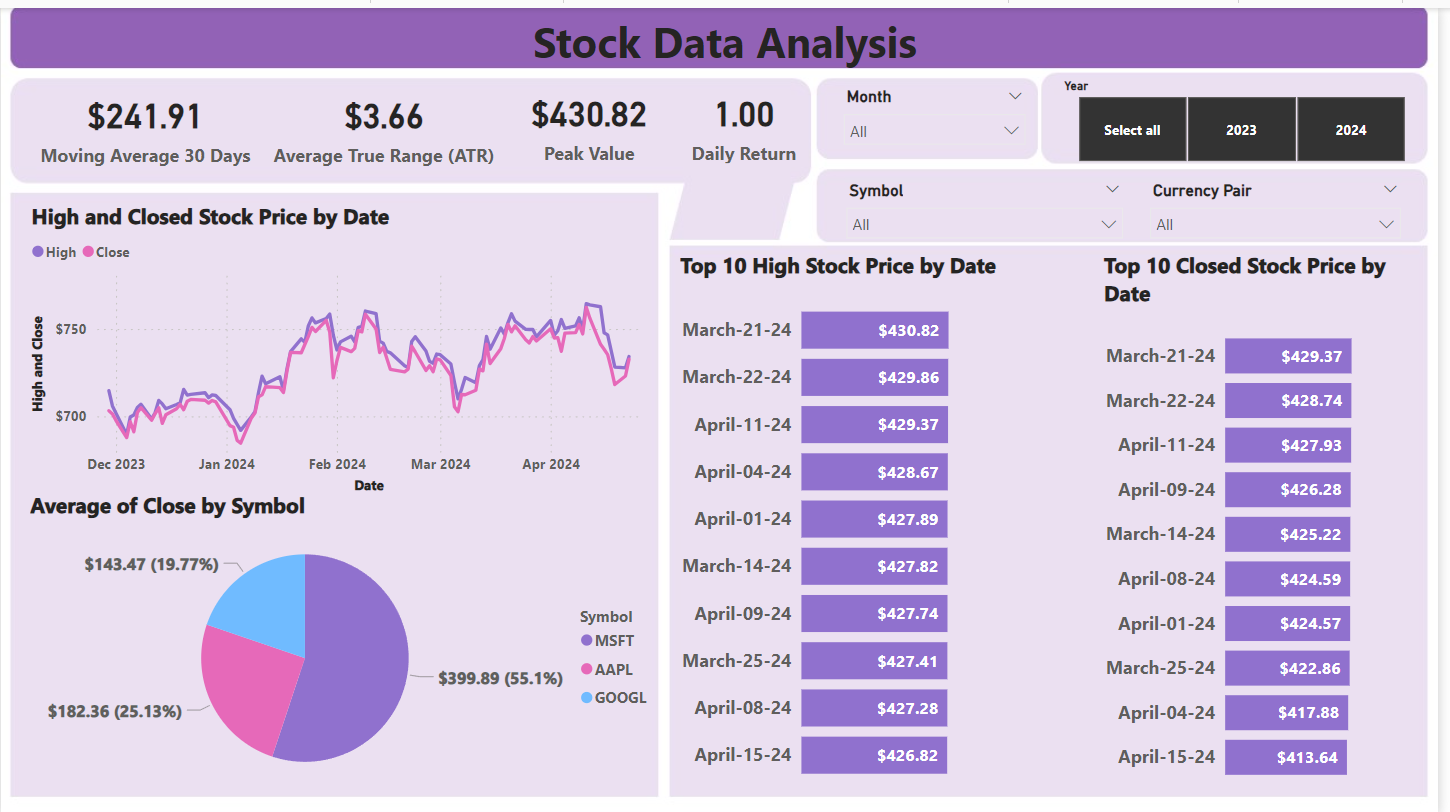

Layout of this report page (visuals, bound fields, positions):
{"tool":"powerbi","page":{"name":"Stock Analysis","canvas":[1280,720],"ordinal":0},"visuals":[{"type":"card","fields":{"Values":["Measure.DailyReturn"]},"box":[580.8,64.8,161.4,78.3],"z":0},{"type":"slicer","fields":{"Values":["Measure.Year"]},"box":[933.8,57.9,340.2,85.7],"z":1000},{"type":"slicer","fields":{"Values":["Measure.Month"]},"box":[740.8,65.1,182.2,63.9],"z":2000},{"type":"card","fields":{"Values":["Measure.MovingAverage"]},"box":[22,64.8,212.8,81.9],"z":3000},{"type":"card","fields":{"Values":["Measure.ATR"]},"box":[234.8,64.8,212.8,81.9],"z":4000},{"type":"card","fields":{"Values":["Measure.PeakValue"]},"box":[447.6,64.8,152.9,78.3],"z":5000},{"type":"textbox","box":[22,0,1244.8,64.8],"z":6000},{"type":"lineChart","title":"High and Closed Stock Price by Date","fields":{"Category":["stock_data.Date.Variation.Date Hierarchy.Year"],"Y":["Sum(stock_data.2. High)","Sum(stock_data.4. Close)"]},"box":[21.7,172.5,568.2,265.4],"z":7000},{"type":"slicer","fields":{"Values":["stock_data.Symbol"]},"box":[742.3,149.2,266.6,63.6],"z":8000},{"type":"clusteredBarChart","title":"Top 10 High Stock Price by Date","fields":{"Y":["Sum(stock_data.2. High)"],"Category":["stock_data.Date"]},"box":[600.2,216.4,323.2,487.7],"z":9000},{"type":"clusteredBarChart","title":"Top 10 Closed Stock Price by Date","fields":{"Category":["stock_data.Date"],"Y":["Sum(stock_data.4. Close)"]},"box":[977.2,216,288.3,488.6],"z":10000},{"type":"slicer","fields":{"Values":["fx_data.Column1"]},"box":[1012.5,149.2,243.3,63.6],"z":11000},{"type":"pieChart","fields":{"Category":["stock_data.Symbol"],"Y":["Avg(stock_data.4. Close)"]},"box":[21.6,429.9,568.4,274.1],"z":12000}]}

Visuals, with their boxes in screenshot pixels (x1, y1, x2, y2), scaled from the page's 1280x720 canvas onto the 1450x812 screenshot:
card - Measure.DailyReturn: 658/73/841/161
slicer - Measure.Year: 1058/65/1443/162
slicer - Measure.Month: 839/73/1046/145
card - Measure.MovingAverage: 25/73/266/165
card - Measure.ATR: 266/73/507/165
card - Measure.PeakValue: 507/73/680/161
textbox: 25/0/1435/73
"High and Closed Stock Price by Date" lineChart: 25/195/668/494
slicer - stock_data.Symbol: 841/168/1143/240
"Top 10 High Stock Price by Date" clusteredBarChart: 680/244/1046/794
"Top 10 Closed Stock Price by Date" clusteredBarChart: 1107/244/1434/795
slicer - fx_data.Column1: 1147/168/1423/240
pieChart - stock_data.Symbol x Avg(stock_data.4. Close): 24/485/668/794
